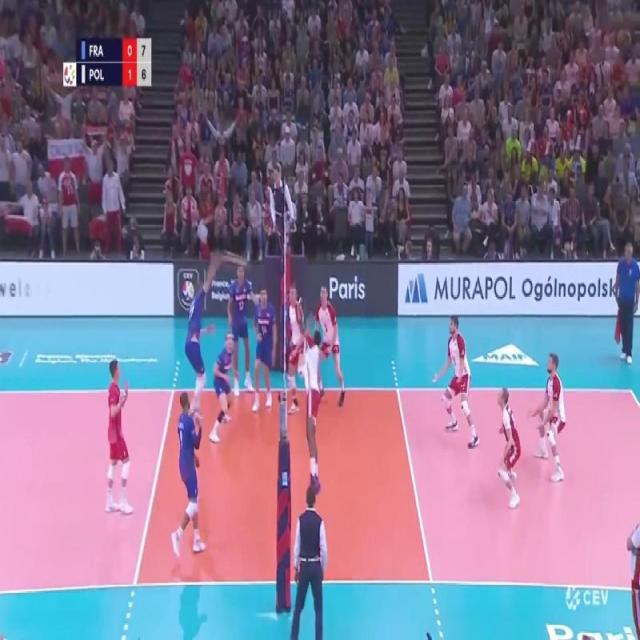volleyball: (235, 256, 248, 270)
